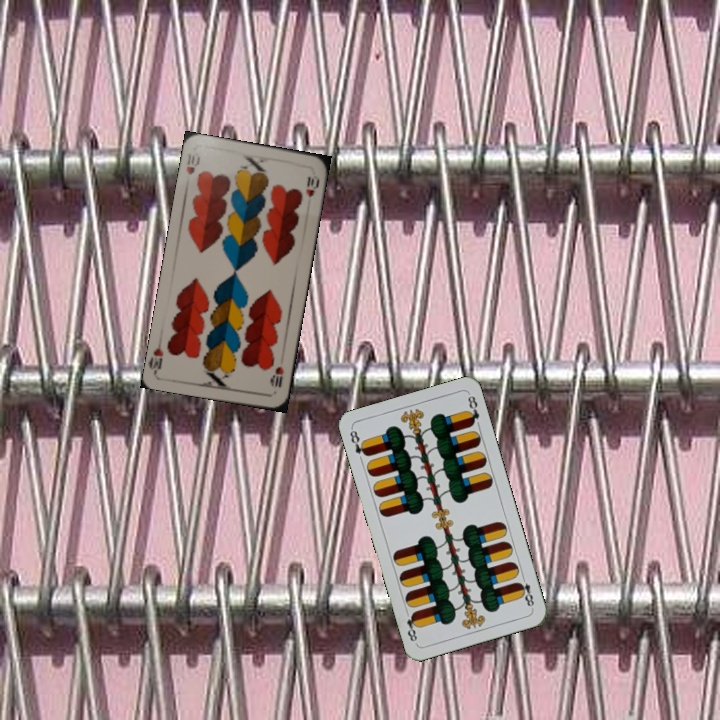E8: (514, 571, 537, 611), (346, 425, 371, 459)
H10: (182, 149, 203, 178), (267, 362, 286, 390)
